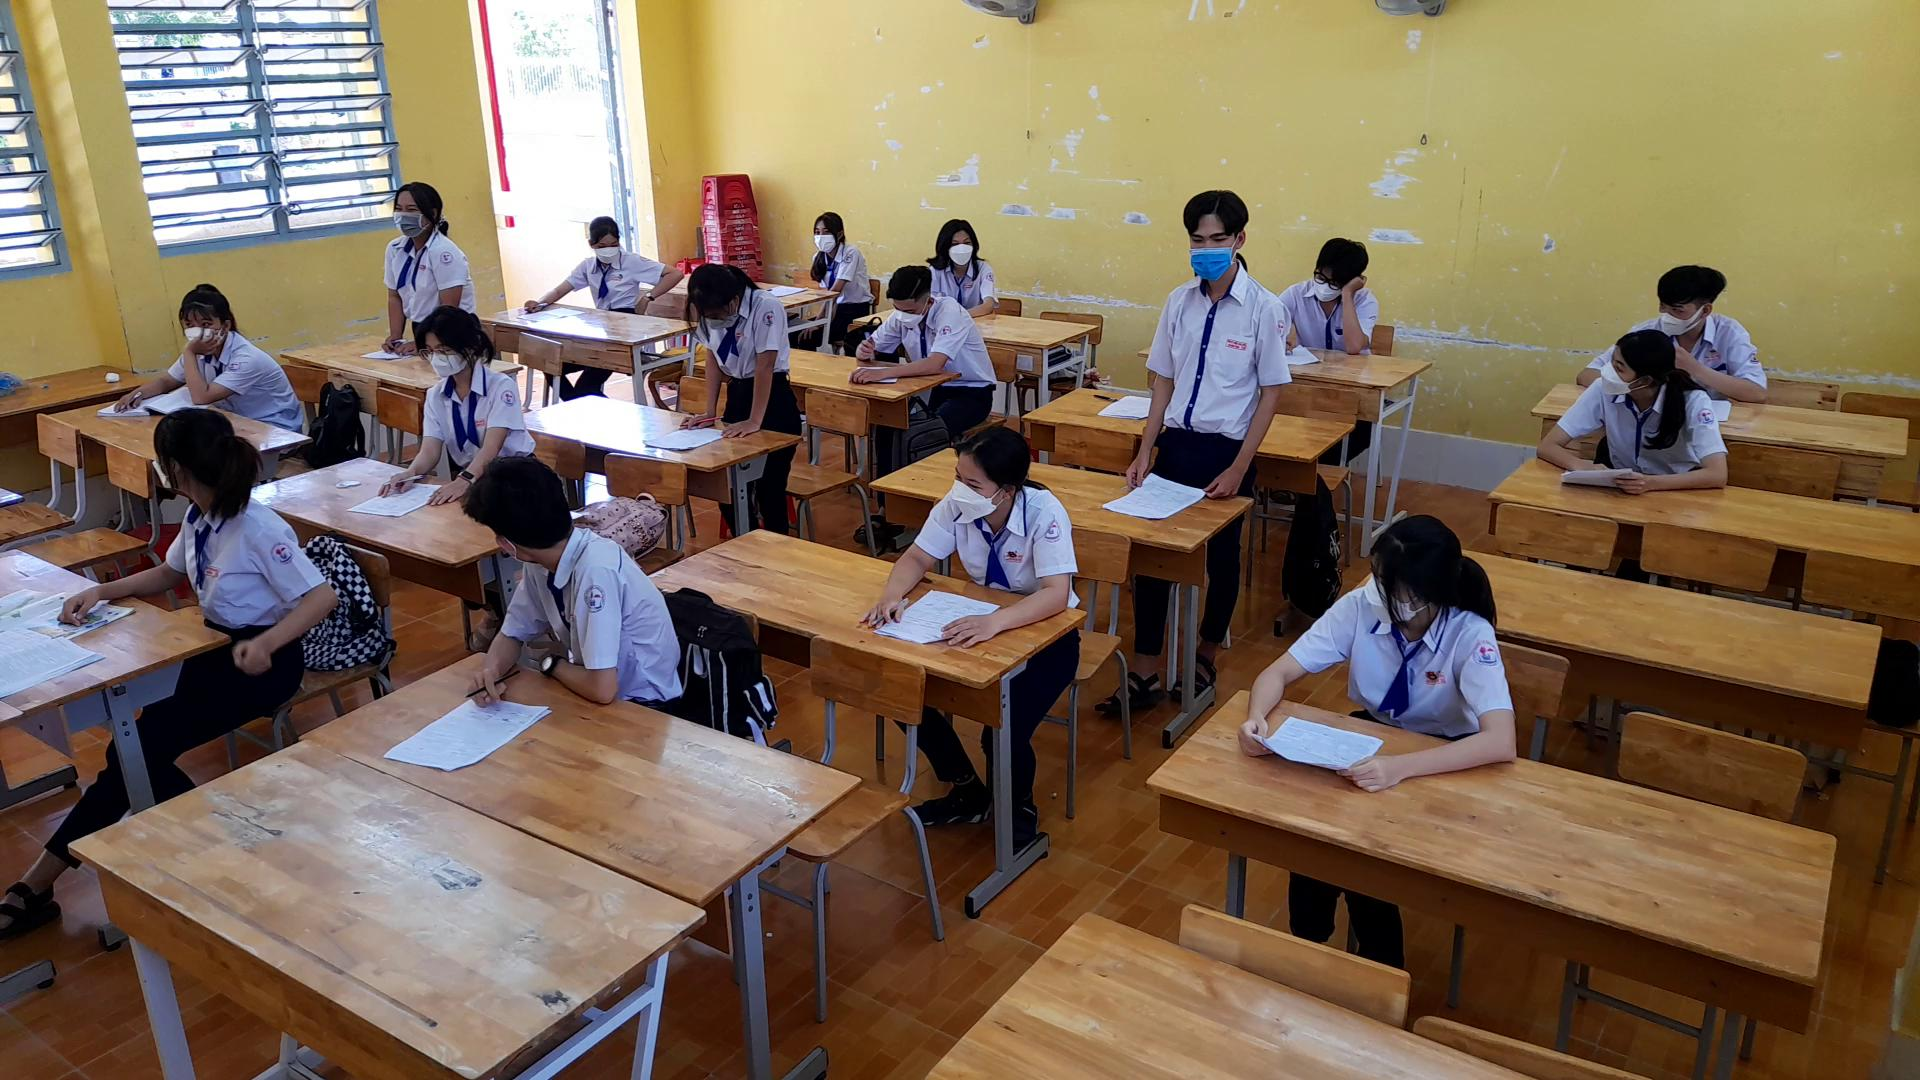Hand Under Table: (822, 252, 856, 299)
Look Around: (140, 396, 273, 512), (446, 452, 579, 567)
Normal: (1233, 500, 1524, 790), (858, 419, 1075, 645), (393, 305, 535, 462), (848, 258, 997, 392), (928, 199, 1002, 315)
Stand Up: (1112, 182, 1294, 502), (675, 249, 791, 443), (372, 171, 469, 313)
Wave: (232, 514, 336, 670), (1325, 265, 1385, 361), (618, 237, 684, 316), (174, 326, 239, 406)
